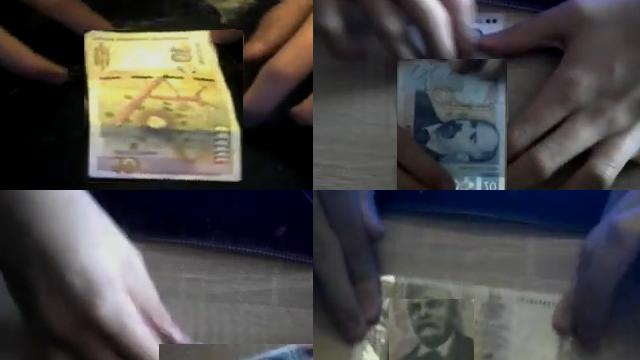10leva: (84, 30, 243, 182), (389, 299, 473, 360)
20leva: (397, 59, 507, 190)
